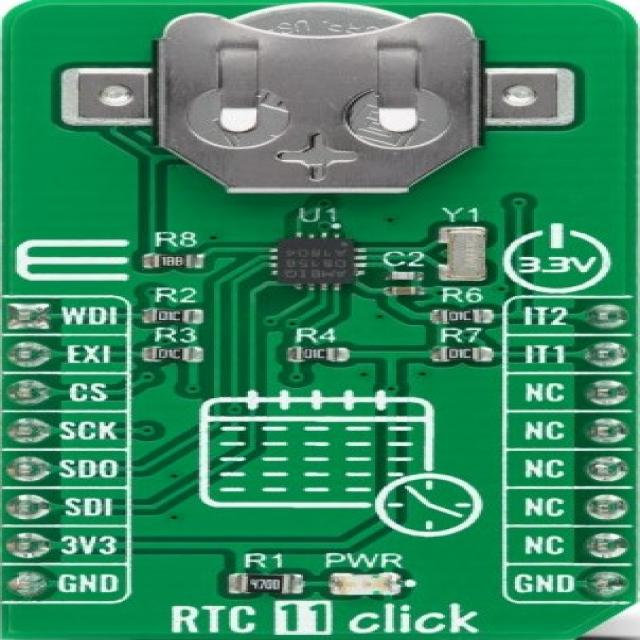IC: (277, 236, 362, 290)
LED: (328, 574, 401, 594)
battery: (67, 4, 540, 201)
capacitor 1V5: (390, 270, 427, 284), (389, 287, 428, 300)
clock Q1: (443, 228, 493, 284)
resistor IR1: (232, 575, 295, 595), (151, 345, 199, 365), (144, 307, 195, 325), (441, 345, 489, 364), (290, 350, 338, 364), (440, 310, 488, 323), (156, 254, 192, 270)
